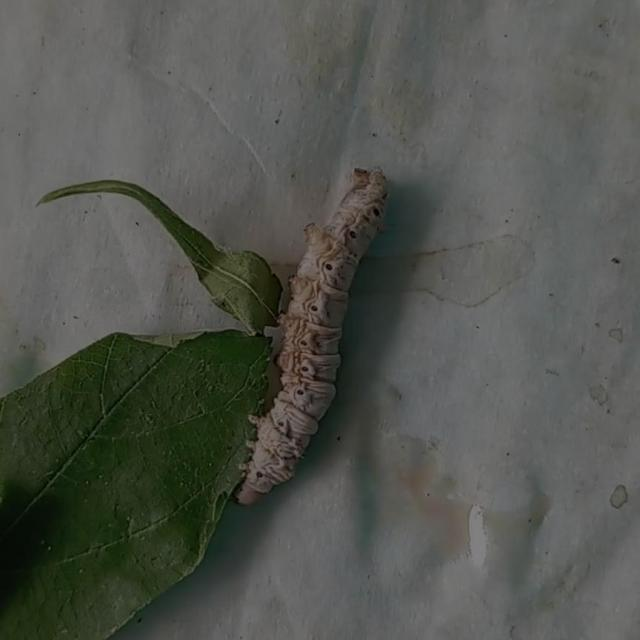Grasserie: (227, 141, 400, 516)
